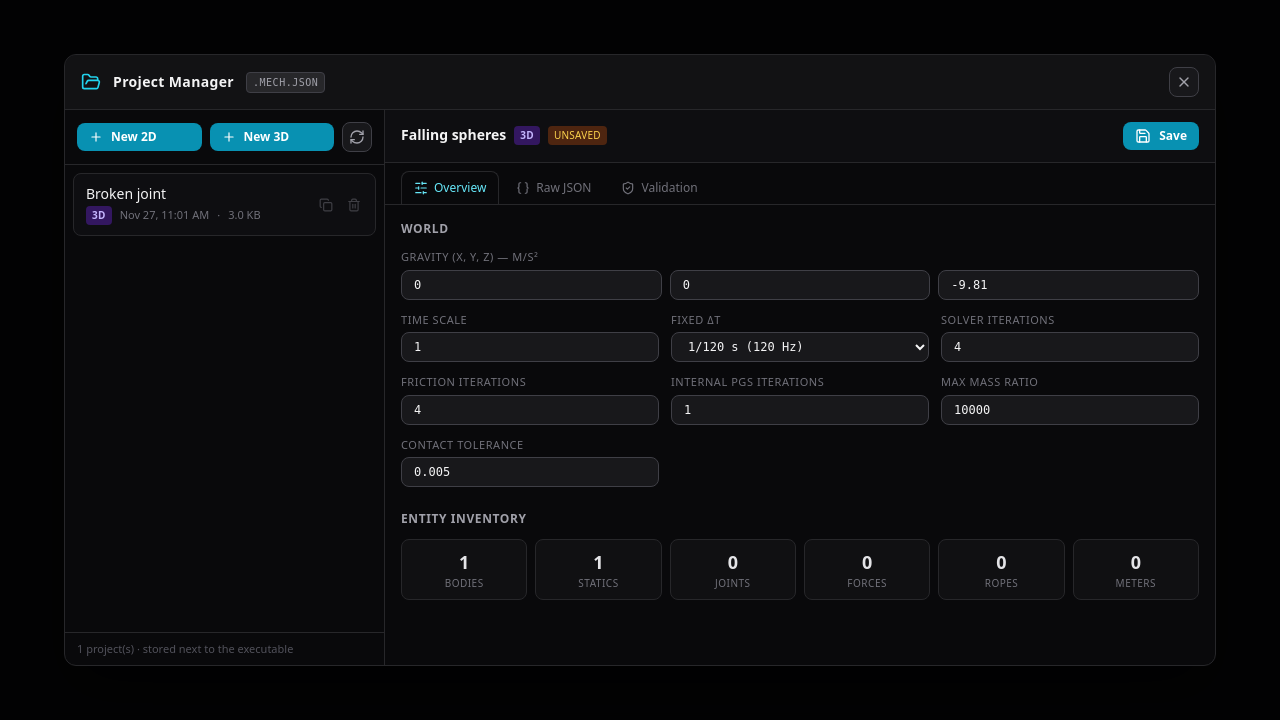
Test: ProjectManager › loads a project and shows structured diagnostics for a broken id reference
Click the button "Broken joint 3D Nov 27, 11:01 AM · 3.0 KB" at (196, 204), box top-left (82, 182), bottom-right (309, 227)
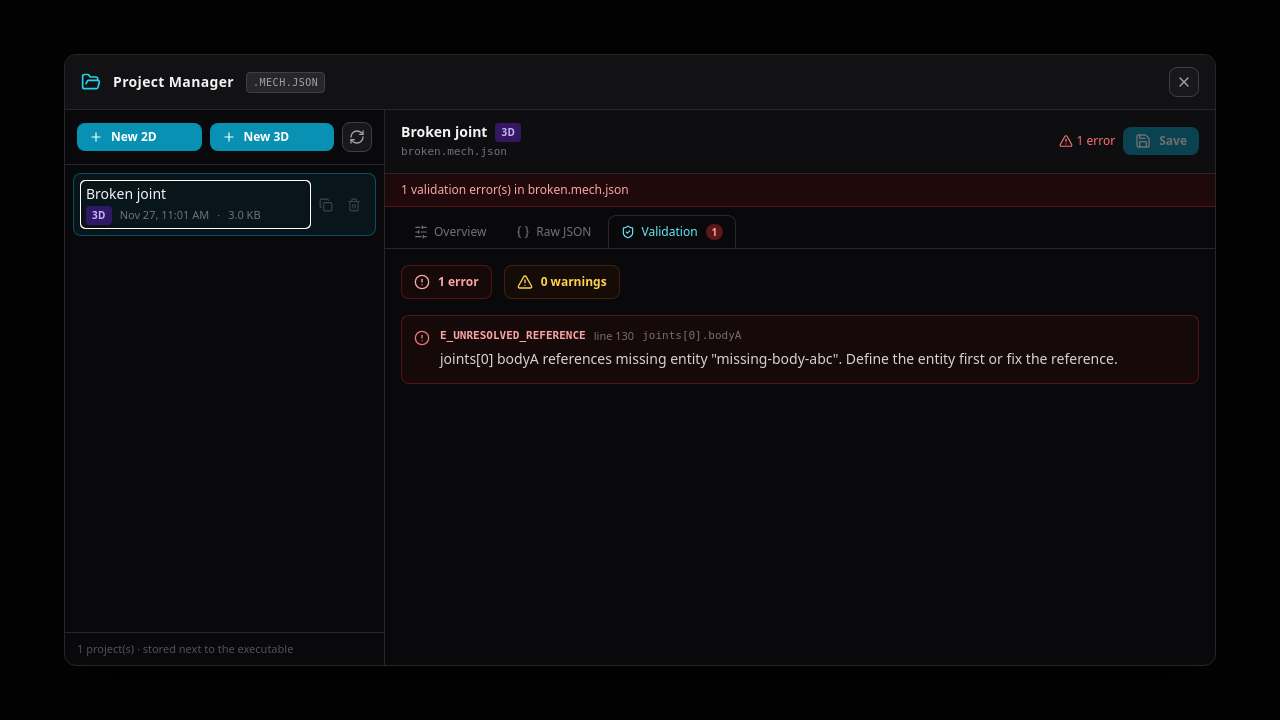
Expected: the text "E_UNRESOLVED_REFERENCE" is shown, top-left (440, 328), bottom-right (586, 344)
Expected: the text "missing-body-abc" is shown, top-left (440, 349), bottom-right (1118, 368)
Expected: the text "line 130" is shown, top-left (594, 328), bottom-right (634, 344)
